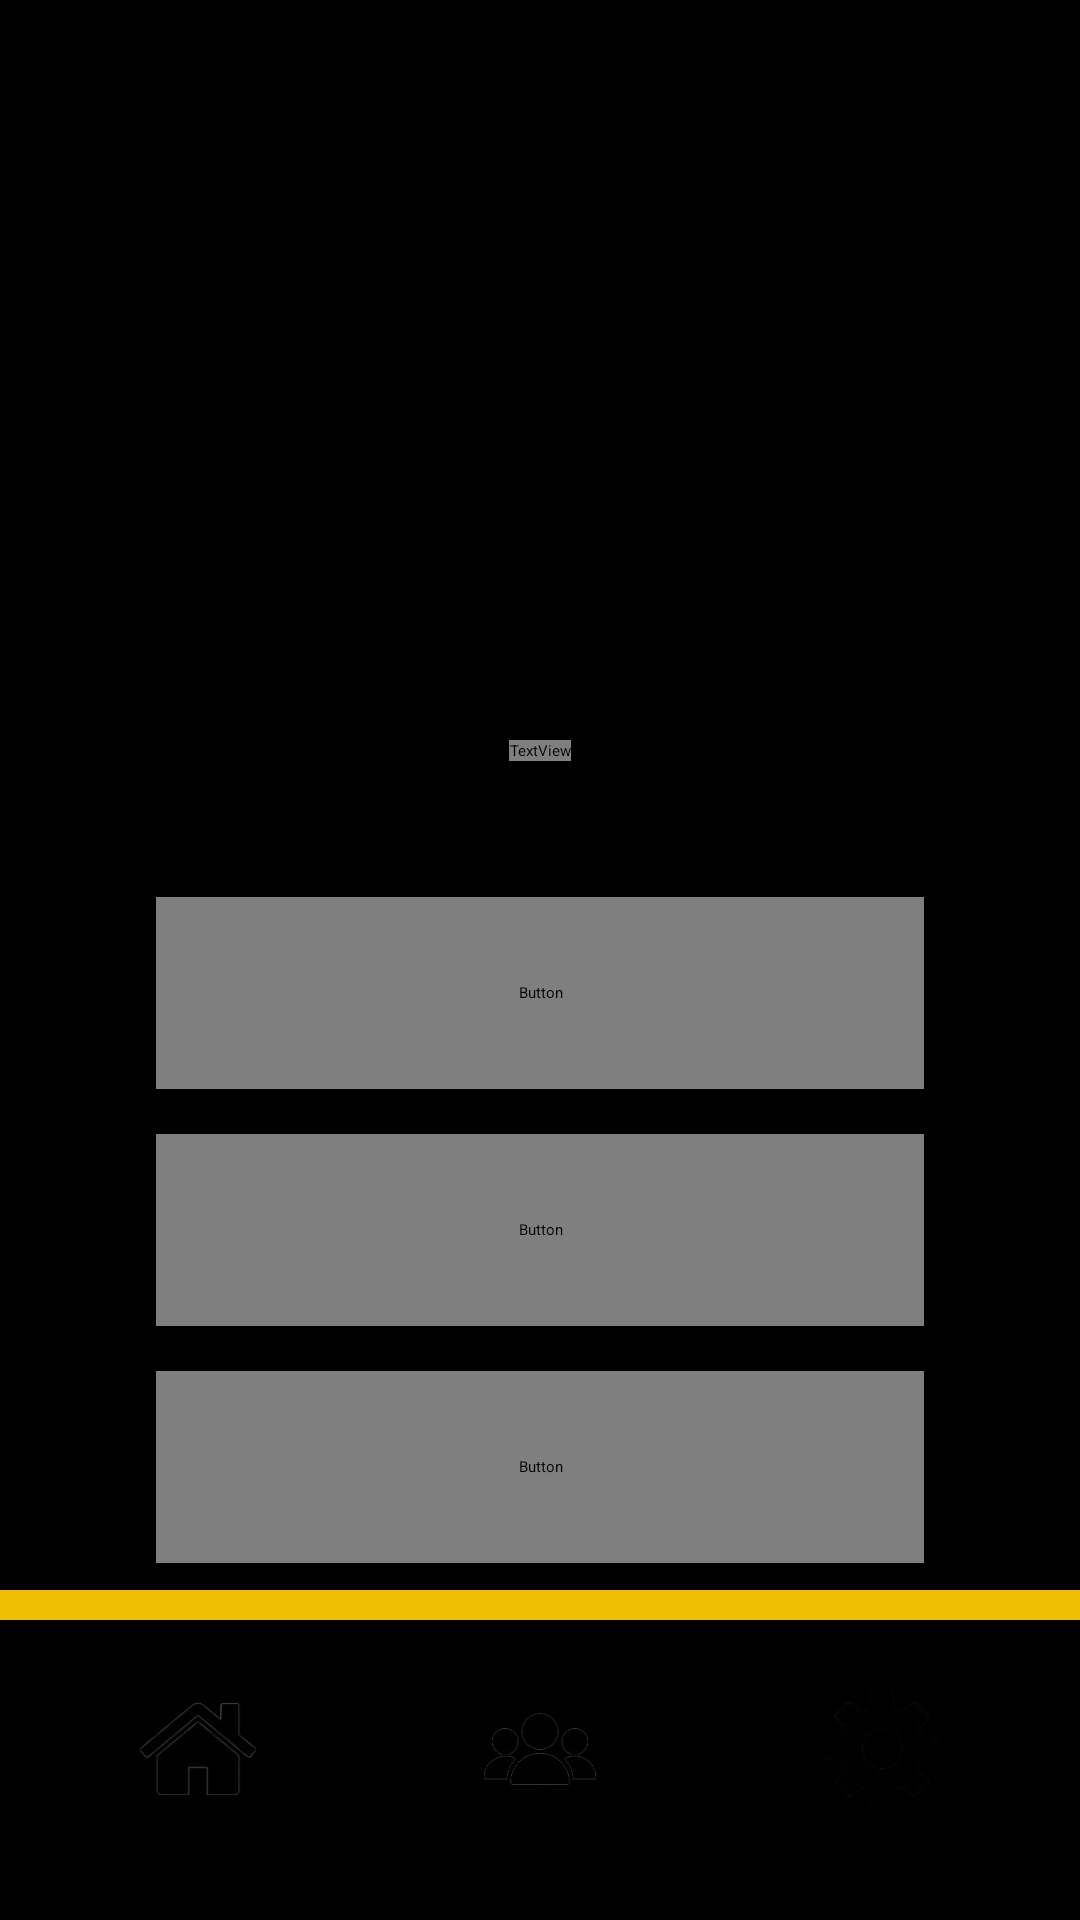

Icons on this 1080x1920 Android screen, each with its box as (x1, y1, x2, y2):
house: (140, 1703, 256, 1795)
staff: (484, 1713, 596, 1785)
